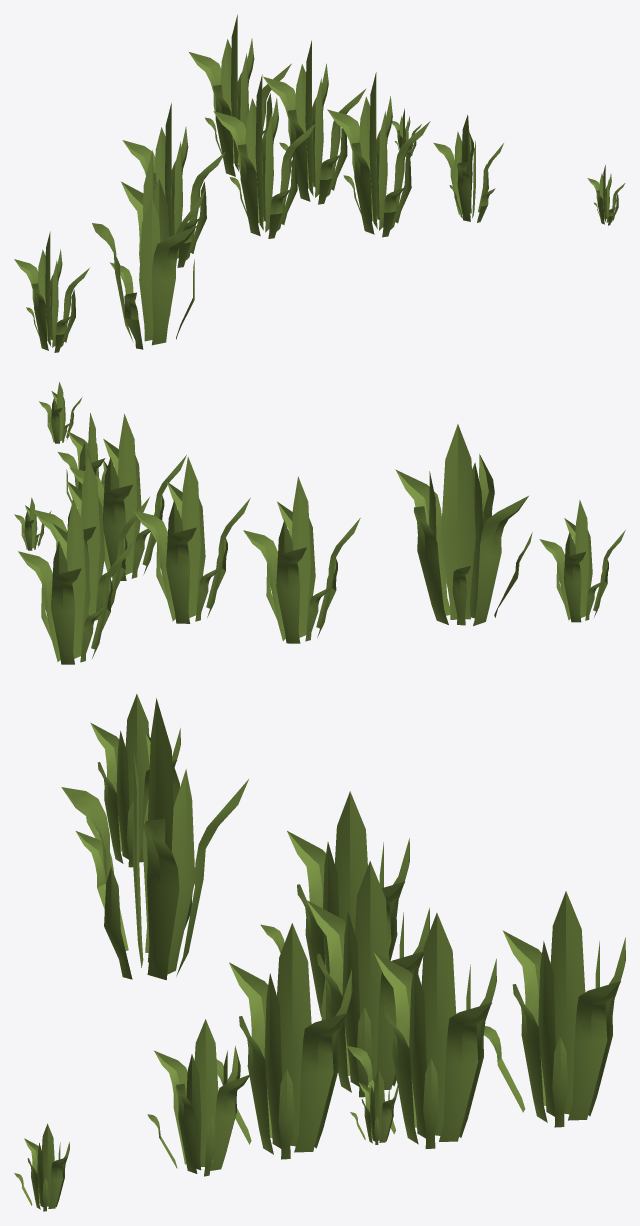
Rendered from Large grass Patch.fbx.
3 views of the same model, one above another, from view 1: azimuth 30°, elevation 25°; view 2: azimuth 150°, elevation 25°; view 3: azimuth 270°, elevation 25° (orthographic). The views are drawn at different scales.
Visible parts, largest first — view 1: Grass.010; view 2: Grass.010; view 3: Grass.010.
Boxes of the visible parts, x1=… form: Grass.010: x1=14, y1=14, x2=625, y2=352; Grass.010: x1=14, y1=382, x2=625, y2=664; Grass.010: x1=14, y1=694, x2=625, y2=1211.
Size of the model in its own units: 238 by 74.48 by 152.
